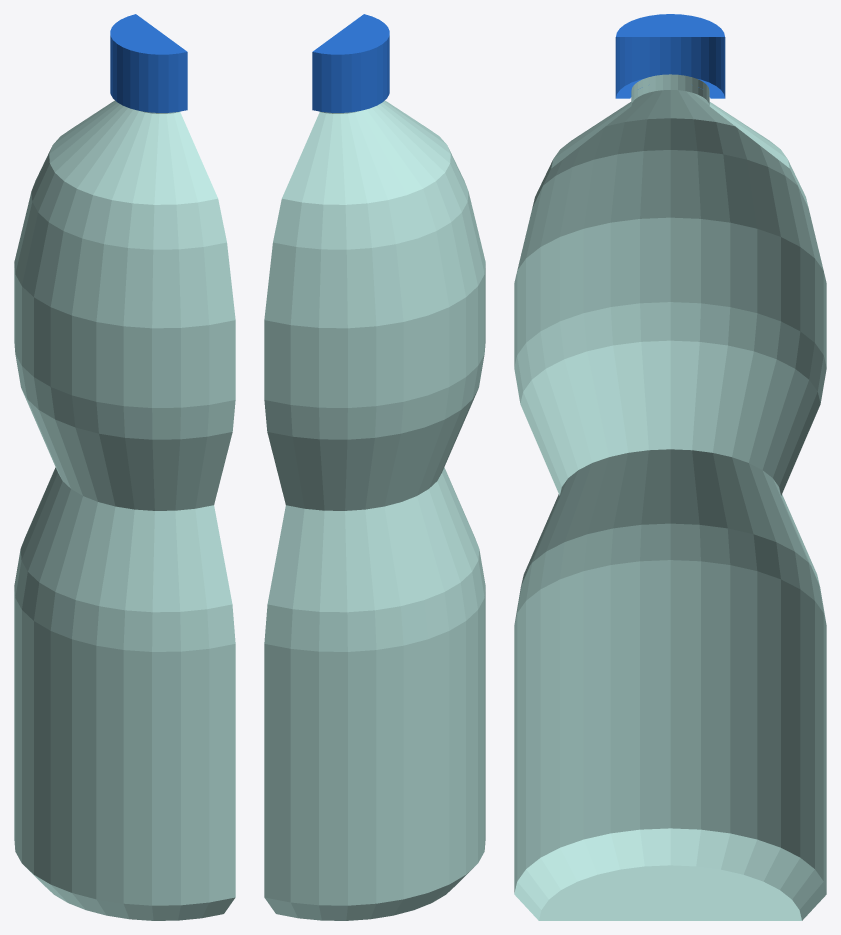
File: BottleRight.fbx
3 renders of one model, left to right at view 1: azimuth 30°, elevation 25°; view 2: azimuth 150°, elevation 25°; view 3: azimuth 270°, elevation 25°, orthographic. The views are drawn at different scales.
Visible parts, largest first — view 1: БутылкаПрав; view 2: БутылкаПрав; view 3: БутылкаПрав.
Part boxes in pixels (box(x1,y1,x2,y2)): БутылкаПрав: box(14, 14, 235, 920); БутылкаПрав: box(264, 14, 485, 920); БутылкаПрав: box(514, 14, 826, 920).
Bounding box in the file's own units: 100 × 624 × 200.
